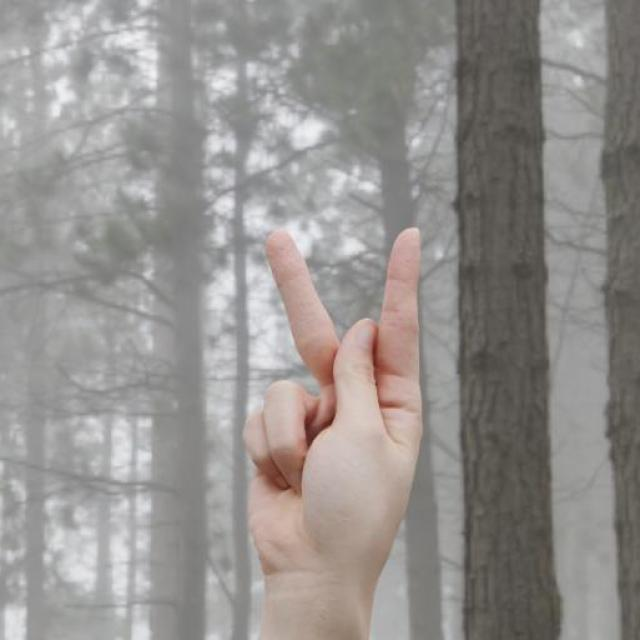K: (176, 185, 486, 619)
